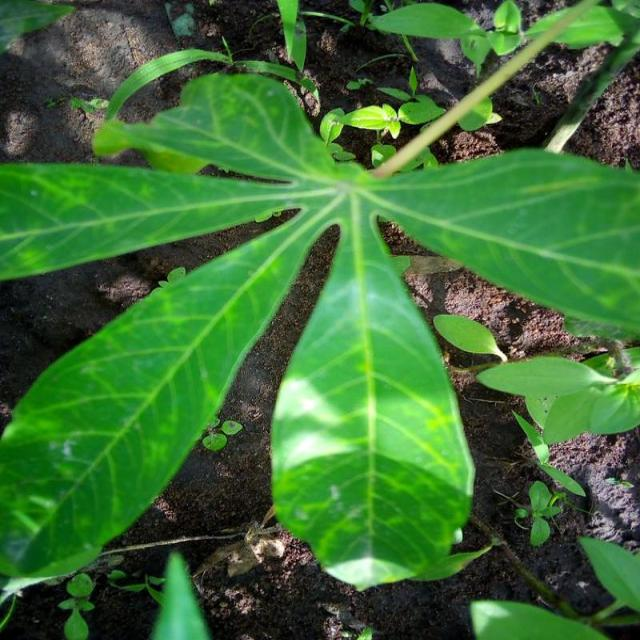cassava leaf: (0, 62, 638, 600), (269, 192, 477, 591)
